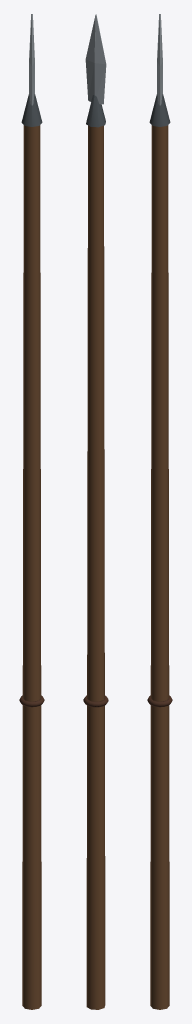
The model's file is javelin.glb.
The picture shows the model from 3 angles, left to right: view 1: azimuth 90°, elevation 25°; view 2: azimuth 150°, elevation 25°; view 3: azimuth 270°, elevation 25°; orthographic projection.
Parts seen in each view (by area): view 1: javelin-shaft, javelin-head, javelin-socket, javelin-grip-binding; view 2: javelin-shaft, javelin-head, javelin-socket, javelin-grip-binding; view 3: javelin-shaft, javelin-head, javelin-socket, javelin-grip-binding.
Part boxes in pixels (bbox=[...]): javelin-shaft: bbox=[22, 125, 41, 1009]; javelin-head: bbox=[29, 14, 34, 105]; javelin-socket: bbox=[21, 94, 42, 126]; javelin-grip-binding: bbox=[19, 695, 44, 707]; javelin-shaft: bbox=[86, 125, 105, 1009]; javelin-head: bbox=[85, 14, 106, 104]; javelin-socket: bbox=[86, 95, 105, 127]; javelin-grip-binding: bbox=[83, 695, 108, 707]; javelin-shaft: bbox=[150, 125, 169, 1009]; javelin-head: bbox=[157, 14, 162, 105]; javelin-socket: bbox=[149, 94, 170, 126]; javelin-grip-binding: bbox=[147, 695, 172, 707].
Size of the model in its own units: 0.0264 by 1.14 by 0.0264.
